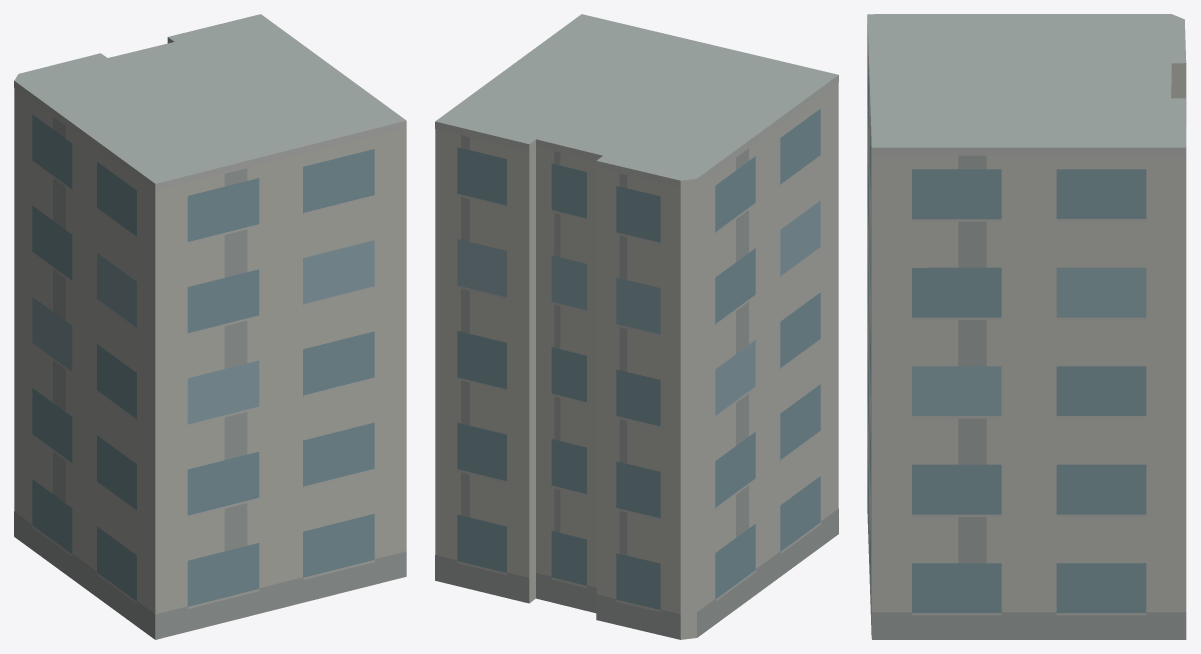
The model's file is survey-upis-32942011.glb.
3 views of the same model, side by side, from view 1: azimuth 30°, elevation 25°; view 2: azimuth 150°, elevation 25°; view 3: azimuth 270°, elevation 25° (orthographic). The views are drawn at different scales.
Visible parts, largest first — view 1: survey-upis-32942011.tmp; view 2: survey-upis-32942011.tmp; view 3: survey-upis-32942011.tmp.
Part boxes in pixels (x1,y1,x2,y2): survey-upis-32942011.tmp: (14, 14, 406, 639); survey-upis-32942011.tmp: (435, 14, 838, 639); survey-upis-32942011.tmp: (867, 14, 1186, 639).
Bounding box in the file's own units: 8.75 × 15 × 8.82.
